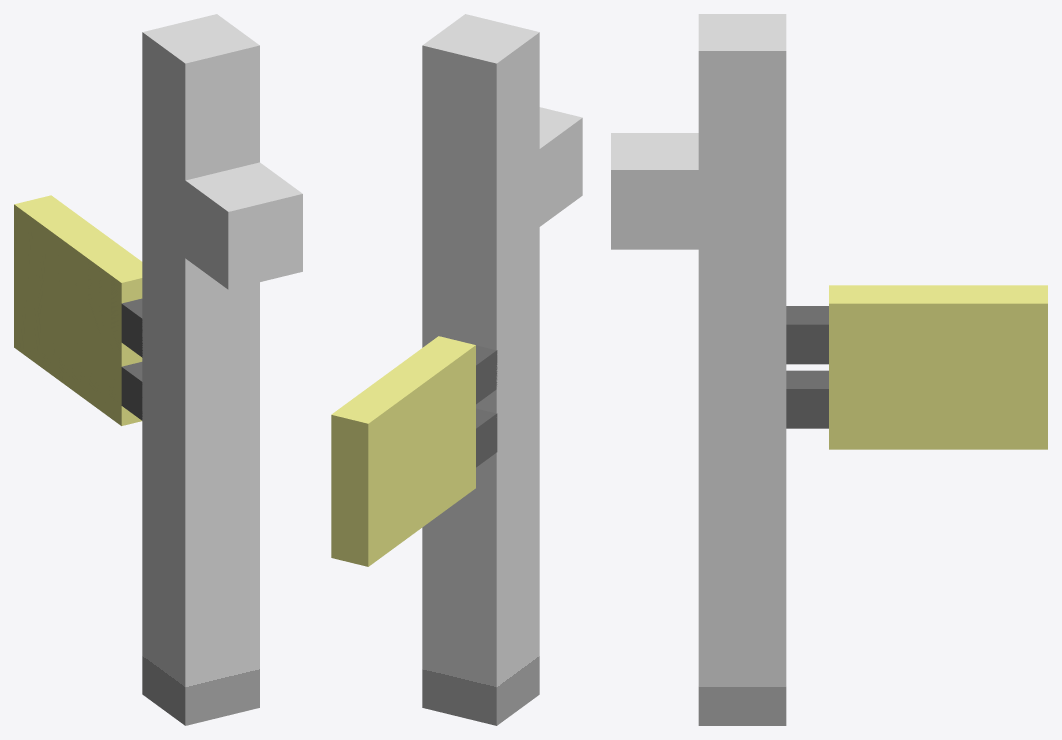
File: obj_sign9.fbx
3 renders of one model, left to right at view 1: azimuth 30°, elevation 25°; view 2: azimuth 150°, elevation 25°; view 3: azimuth 270°, elevation 25°, orthographic.
Parts seen in each view (by area): view 1: obj_sign9; view 2: obj_sign9; view 3: obj_sign9.
Part boxes in pixels (x1,y1,x2,y2): obj_sign9: (14, 14, 302, 725); obj_sign9: (331, 14, 582, 725); obj_sign9: (611, 14, 1047, 725).
Bounding box in the file's own units: 7.87 × 66.93 × 39.27.
